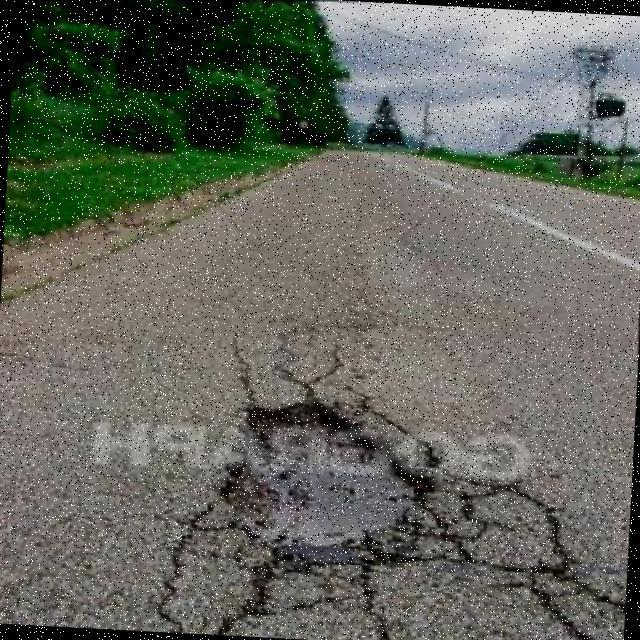Pothole: (224, 404, 435, 565)
